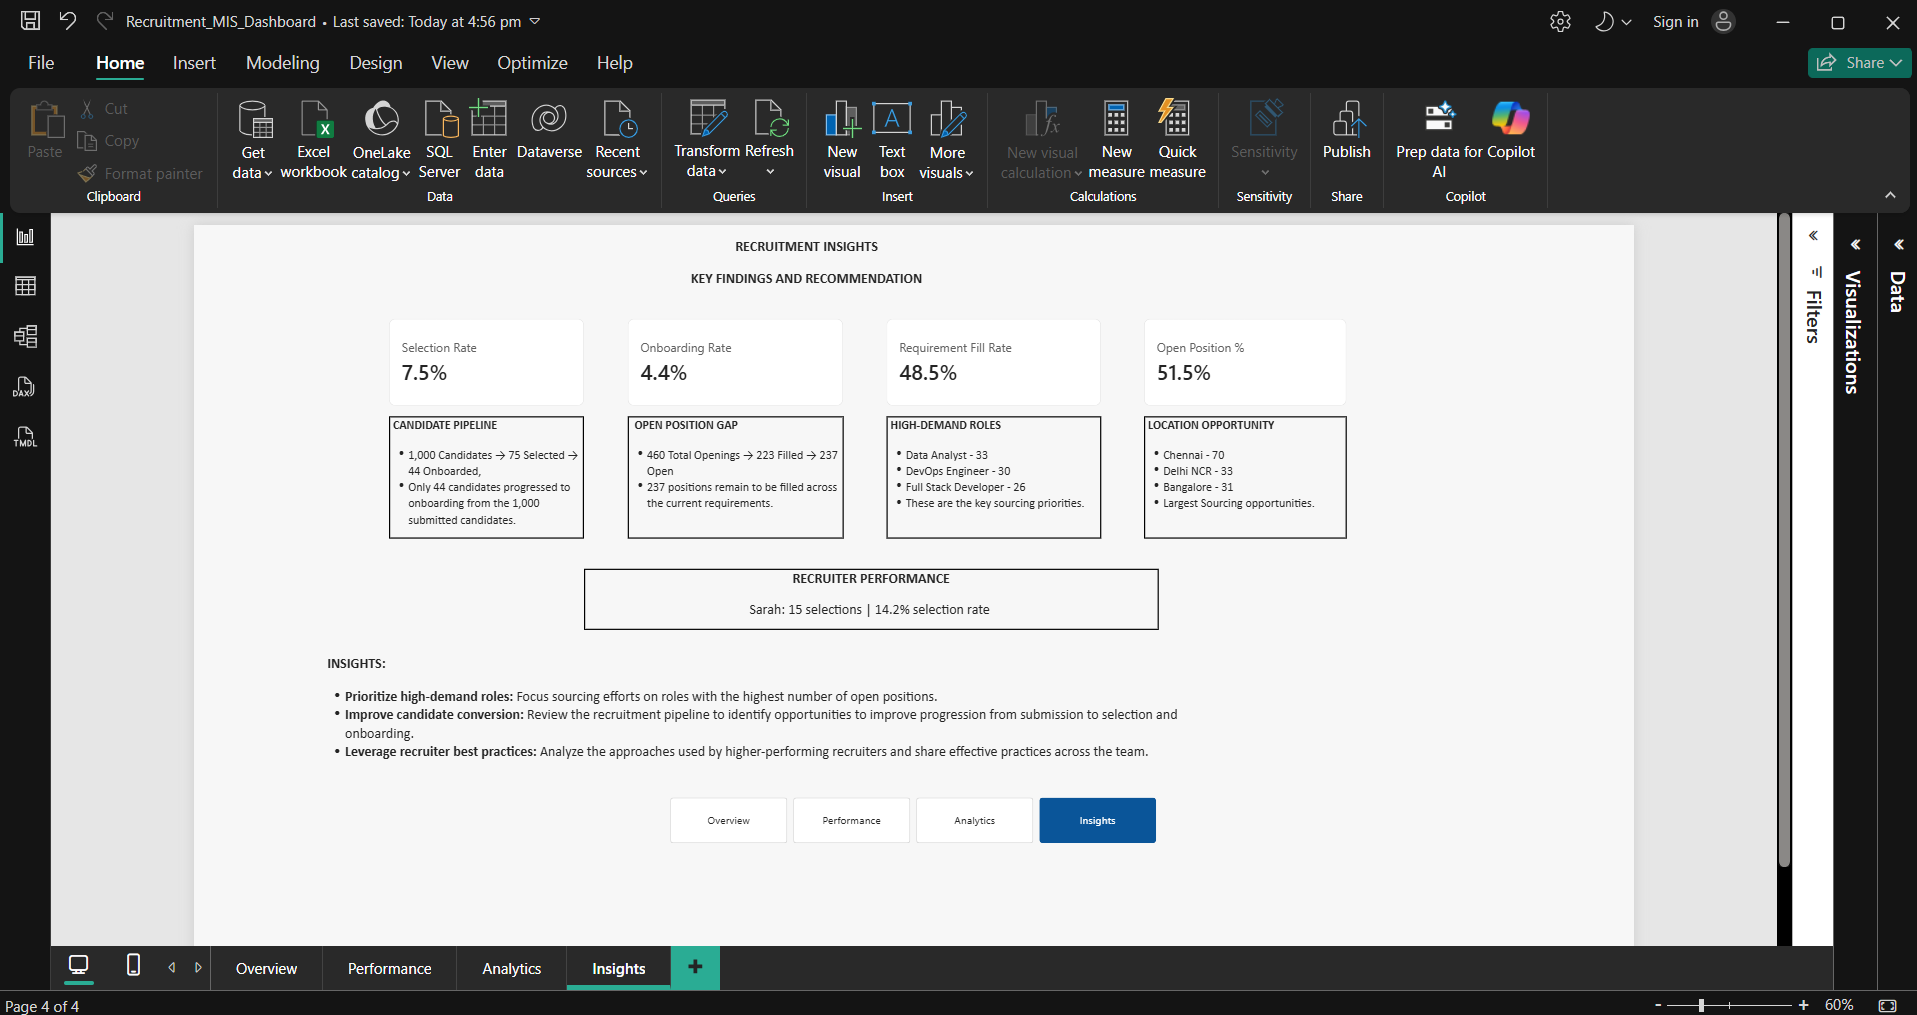

This screenshot's page, from the dashboard's own definition file:
{"tool":"powerbi","page":{"name":"Insights","canvas":[1920,1080],"ordinal":3},"visuals":[{"type":"textbox","box":[9.9,19.7,1257.7,39.4],"z":0},{"type":"textbox","box":[10,60,1257.5,37.5],"z":1},{"type":"cardVisual","fields":{"Data":["Candidate Submissions.Onboarding Rate"]},"box":[281.2,125,287.5,116.2],"z":2},{"type":"cardVisual","fields":{"Data":["Candidate Submissions.Selection Rate"]},"box":[10,125,260,116.2],"z":3},{"type":"cardVisual","fields":{"Data":["Candidate Submissions.Requirement Fill Rate"]},"box":[577.5,125,286.2,116.2],"z":4},{"type":"cardVisual","fields":{"Data":["Candidate Submissions.Open Position %"]},"box":[875,125,270,116.2],"z":5},{"type":"textbox","box":[10,255,260,163.8],"z":6},{"type":"textbox","box":[281.2,255,287.5,163.8],"z":7},{"type":"textbox","box":[577.5,255,286.2,163.8],"z":8},{"type":"textbox","box":[875,255,270,163.8],"z":9},{"type":"textbox","box":[260,441.2,551.2,68.8],"z":10},{"type":"textbox","box":[10,531.2,1135,158.8],"z":11},{"type":"pageNavigator","box":[248.8,725,600,50],"z":12}]}

Visuals, with their boxes on the page's 1920x1080 design canvas (x1, y1, x2, y2). These are canvas units, not pixel positions in the 1917x1015 screenshot, which may show the page scaled, cropped or inside an application window:
textbox: region(10, 20, 1268, 59)
textbox: region(10, 60, 1268, 98)
cardVisual - Candidate Submissions.Onboarding Rate: region(281, 125, 569, 241)
cardVisual - Candidate Submissions.Selection Rate: region(10, 125, 270, 241)
cardVisual - Candidate Submissions.Requirement Fill Rate: region(578, 125, 864, 241)
cardVisual - Candidate Submissions.Open Position %: region(875, 125, 1145, 241)
textbox: region(10, 255, 270, 419)
textbox: region(281, 255, 569, 419)
textbox: region(578, 255, 864, 419)
textbox: region(875, 255, 1145, 419)
textbox: region(260, 441, 811, 510)
textbox: region(10, 531, 1145, 690)
pageNavigator: region(249, 725, 849, 775)
